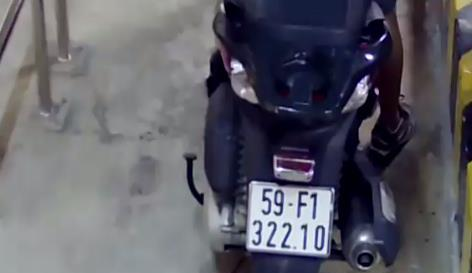lisence: (246, 180, 335, 257)
